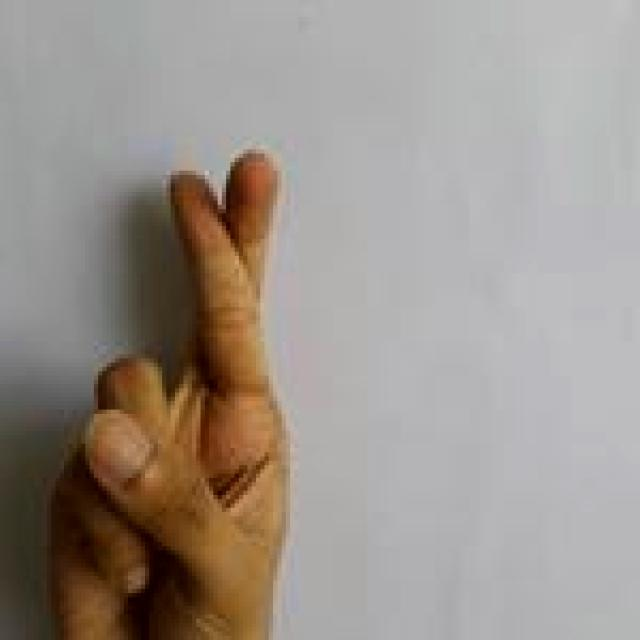R: (42, 138, 305, 640)
